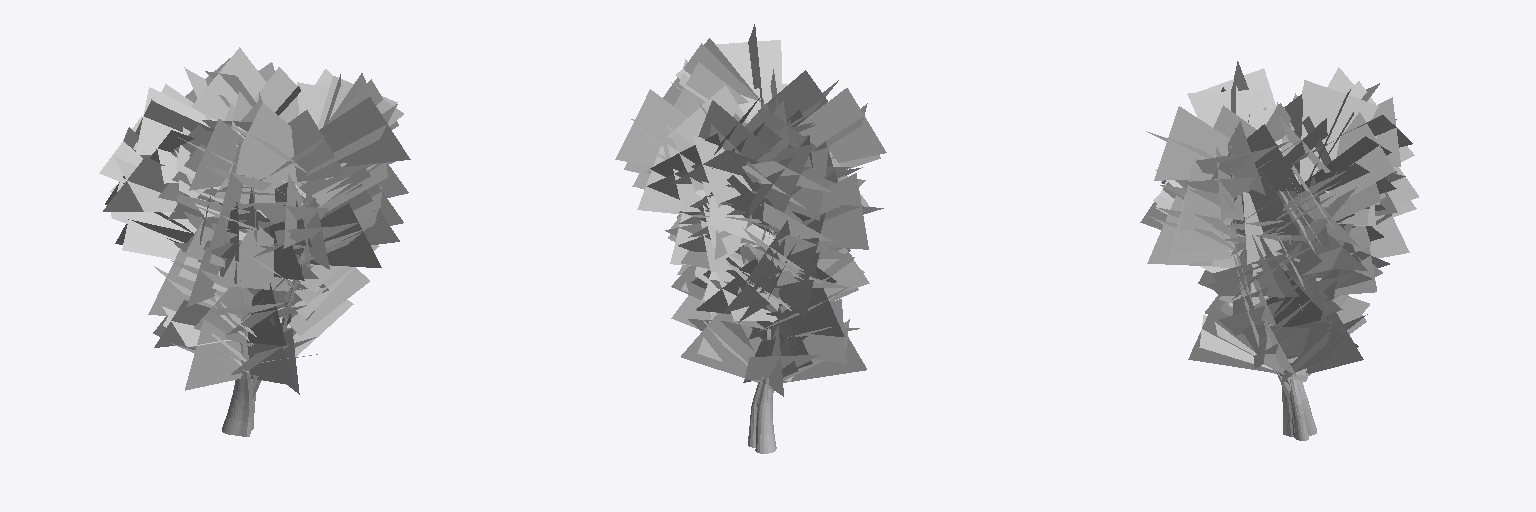
File: tree01.obj
3 renders of one model, left to right at view 1: azimuth 30°, elevation 25°; view 2: azimuth 150°, elevation 25°; view 3: azimuth 270°, elevation 25°, orthographic.
Visible parts, largest first — view 1: tree01; view 2: tree01; view 3: tree01.
Boxes of the visible parts, box(x1,y1,x2,y2) form: tree01: box(99, 47, 410, 436); tree01: box(615, 24, 886, 453); tree01: box(1140, 61, 1418, 440).
Bounding box in the file's own units: 7.45 × 10.13 × 7.09.